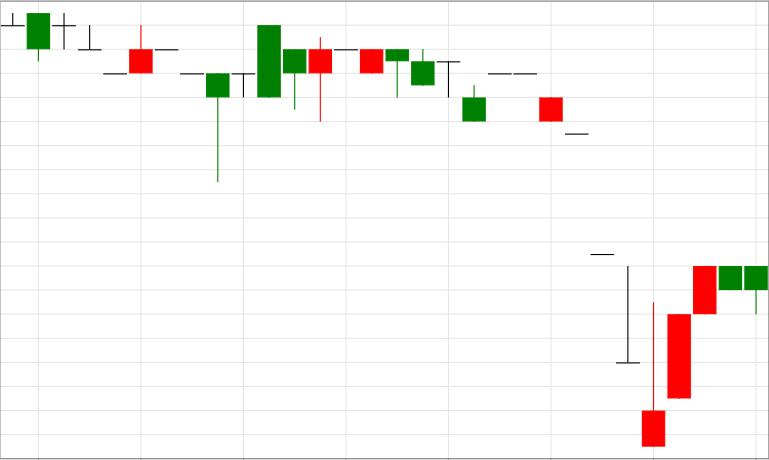hammer_rise: (1, 13, 229, 183)
inverse_hammer_rise: (488, 73, 665, 447)
